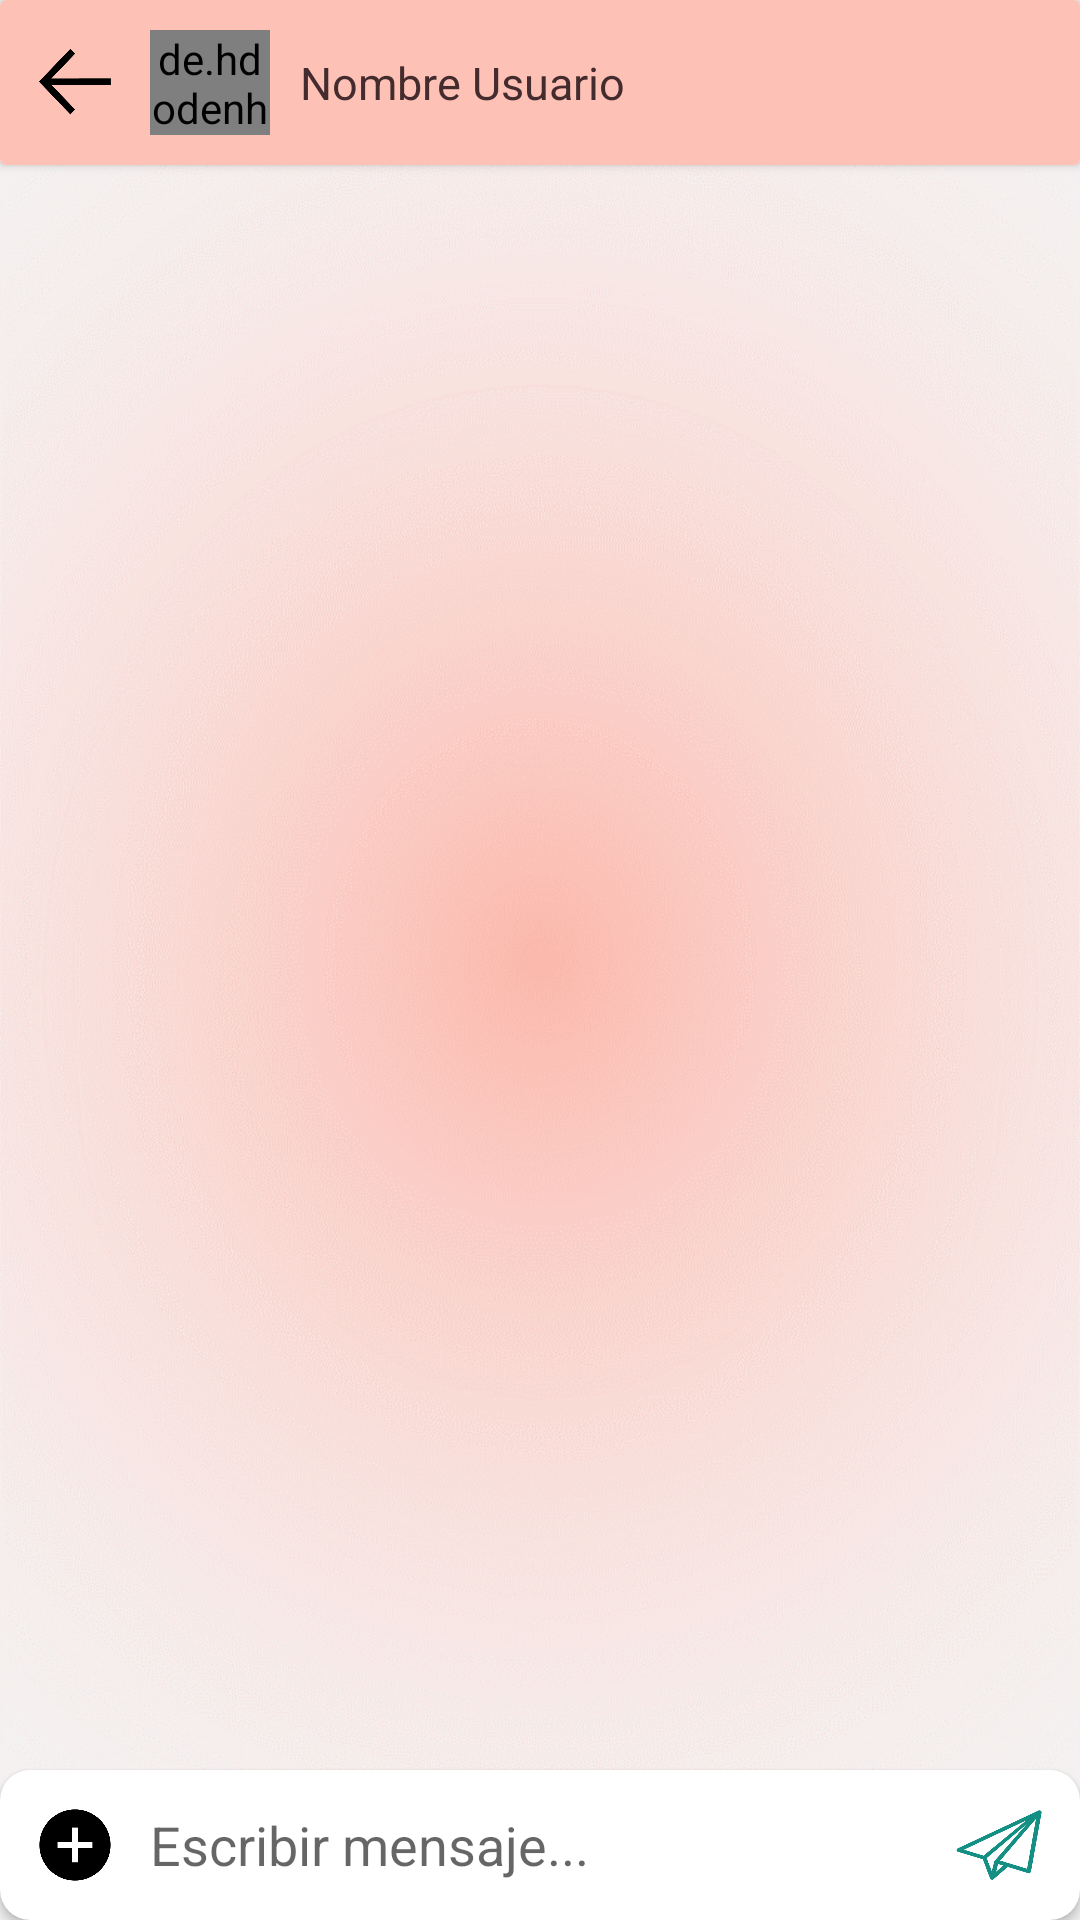

Screen size 1080px×1920px. Icon name, then its box in pixels as {"x1": x1, "y1": y1, "x2": x2, "y2": y2}:
agregar: {"x1": 39, "y1": 1809, "x2": 111, "y2": 1881}
enviar: {"x1": 956, "y1": 1810, "x2": 1042, "y2": 1880}
